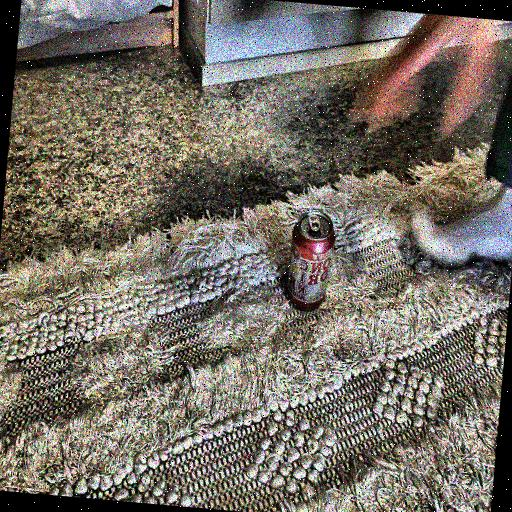koff: (280, 203, 342, 314)
